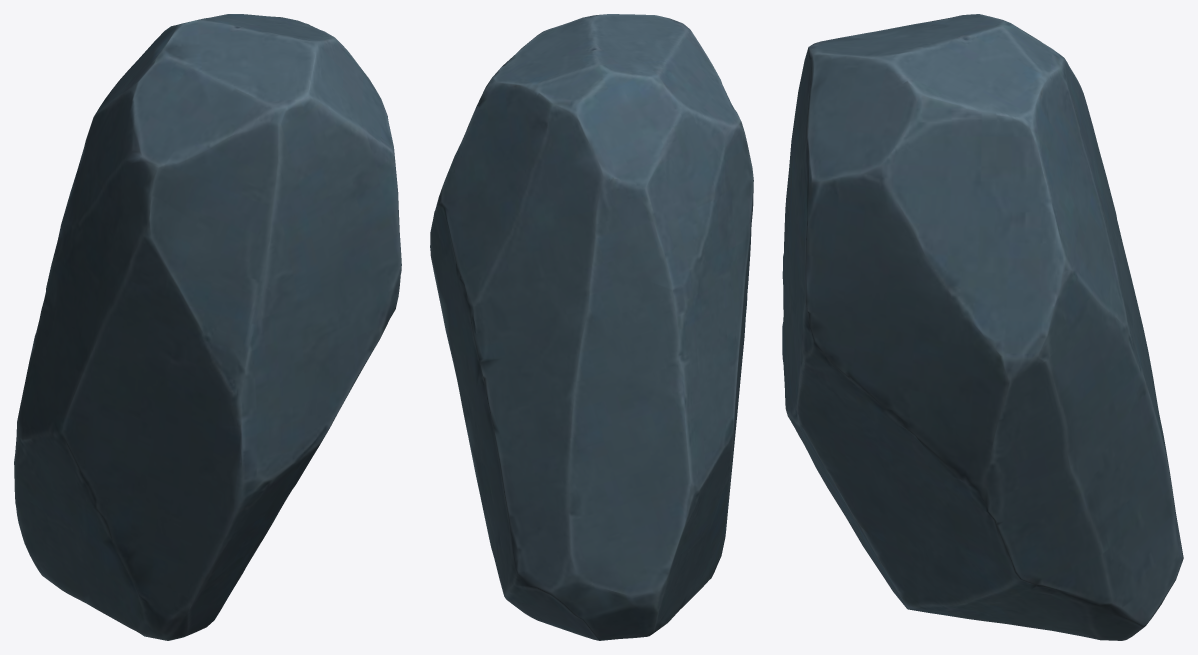
File: sky_boulder_f.glb
The picture shows the model from 3 angles, left to right: view 1: azimuth 30°, elevation 25°; view 2: azimuth 150°, elevation 25°; view 3: azimuth 270°, elevation 25°; orthographic projection. The views are drawn at different scales.
Parts seen in each view (by area): view 1: boulder_f; view 2: boulder_f; view 3: boulder_f.
Boxes of the visible parts, x1,y1,x2,y2 form: boulder_f: [14, 14, 401, 640]; boulder_f: [430, 14, 753, 640]; boulder_f: [782, 14, 1183, 640].
Bounding box in the file's own units: 6.09 × 10.51 × 6.27.
Materials: 1 (1 with a texture image).
